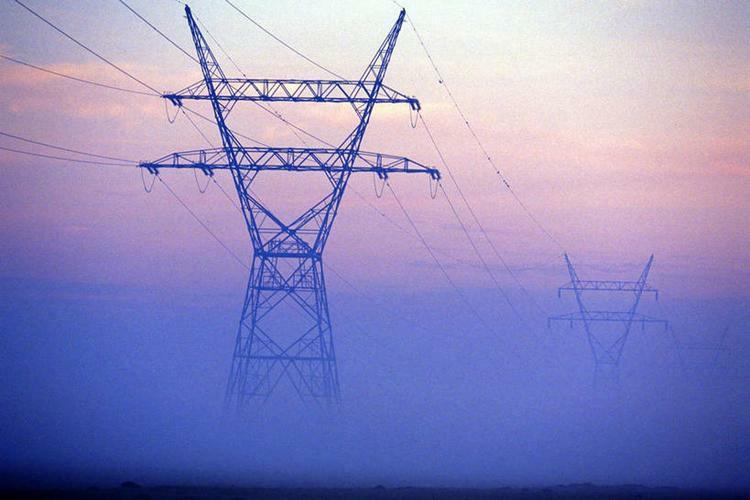power_tower: (182, 6, 442, 424), (544, 249, 674, 409)
